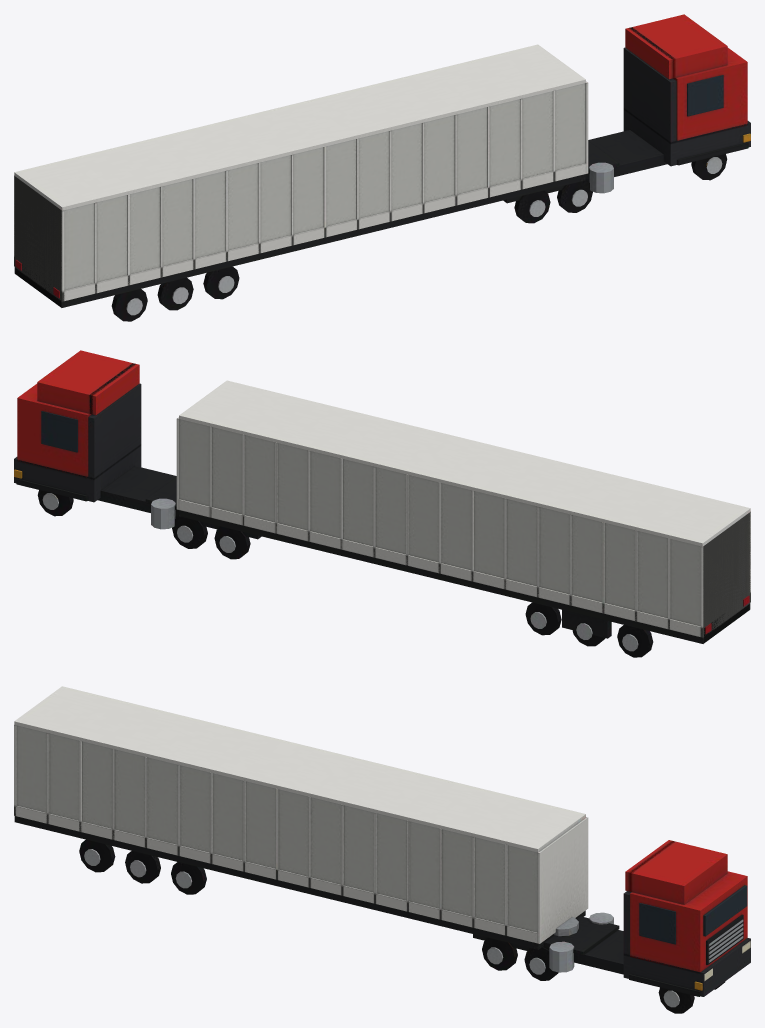
The model's file is tir_b.glb.
3 renders of one model, top to bottom at view 1: azimuth 30°, elevation 25°; view 2: azimuth 150°, elevation 25°; view 3: azimuth 330°, elevation 25°, orthographic.
Parts seen in each view (by area): view 1: tir_b; view 2: tir_b; view 3: tir_b.
Boxes of the visible parts, x1=… form: tir_b: x1=14, y1=14, x2=750, y2=321; tir_b: x1=14, y1=350, x2=750, y2=657; tir_b: x1=14, y1=686, x2=750, y2=1013.
Bounding box in the file's own units: 21.09 × 4 × 2.73.
Materials: 1 (1 with a texture image).
